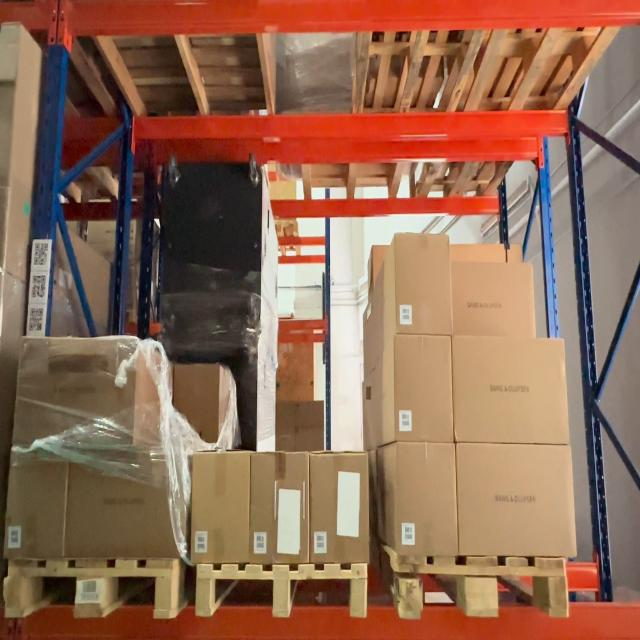box: (161, 164, 259, 328), (18, 330, 136, 445), (458, 449, 574, 553), (67, 448, 181, 550), (450, 350, 564, 444), (387, 442, 456, 548), (251, 450, 312, 566), (193, 450, 254, 559), (393, 336, 452, 444), (451, 266, 530, 342), (394, 234, 452, 334), (314, 461, 372, 559), (12, 462, 63, 550), (168, 370, 216, 442)
